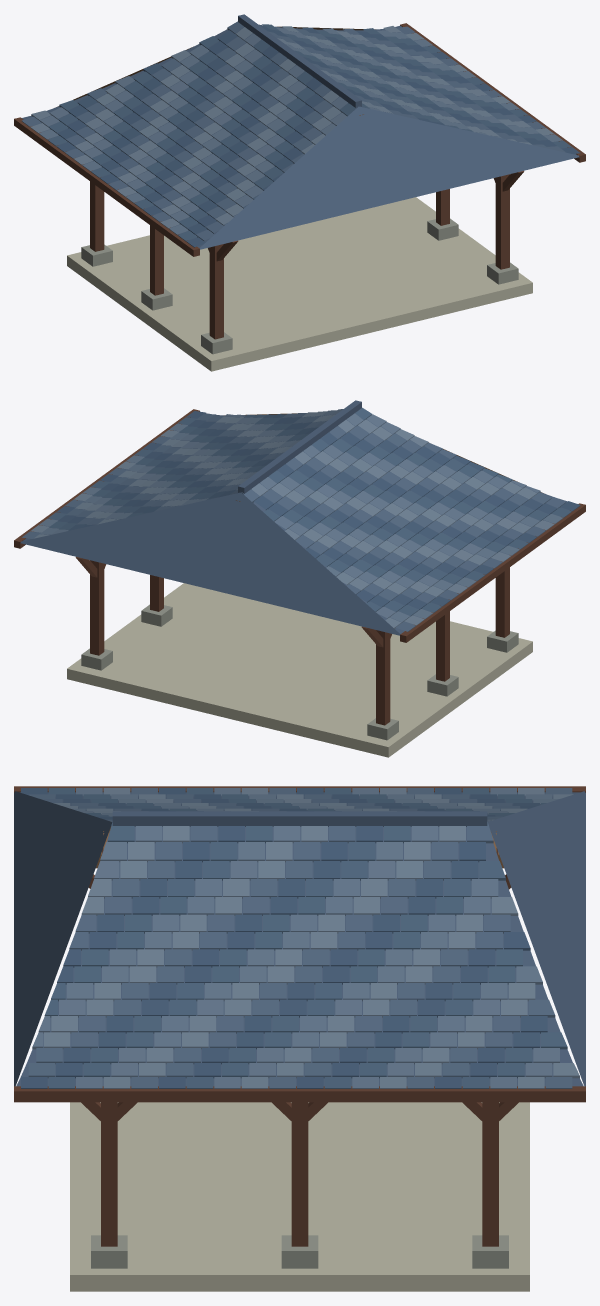
The model's file is work_pavilion.glb.
3 views of the same model, one above another, from view 1: azimuth 30°, elevation 25°; view 2: azimuth 150°, elevation 25°; view 3: azimuth 270°, elevation 25° (orthographic). The views are drawn at different scales.
Visible parts, largest first — view 1: work_pavilion; view 2: work_pavilion; view 3: work_pavilion.
Boxes of the visible parts, bbox=[...] form: work_pavilion: bbox=[14, 14, 585, 371]; work_pavilion: bbox=[14, 400, 585, 757]; work_pavilion: bbox=[14, 786, 585, 1291].
Bounding box in the file's own units: 10.98 × 5.92 × 8.7.
